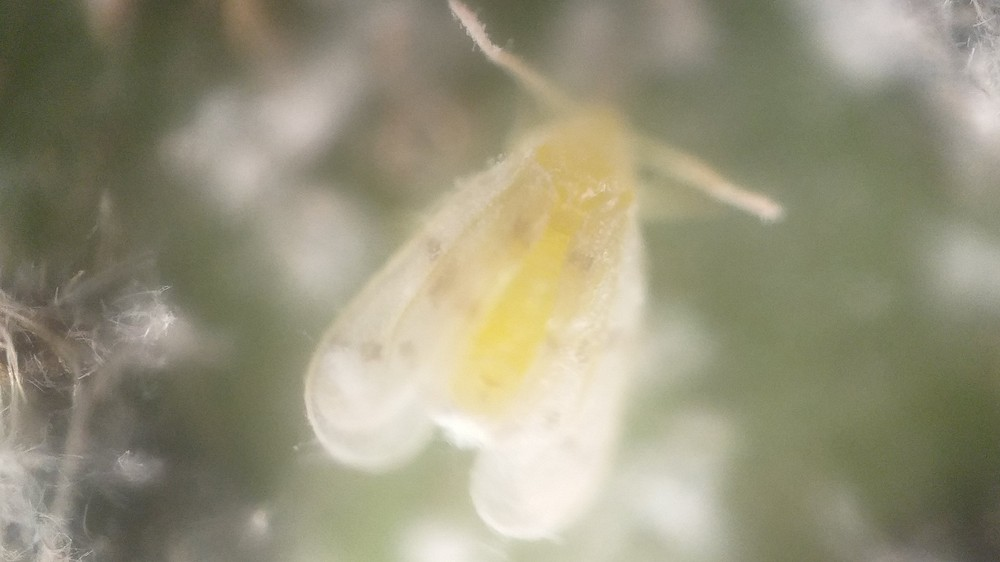Mosca Blanca: (303, 9, 795, 549)
